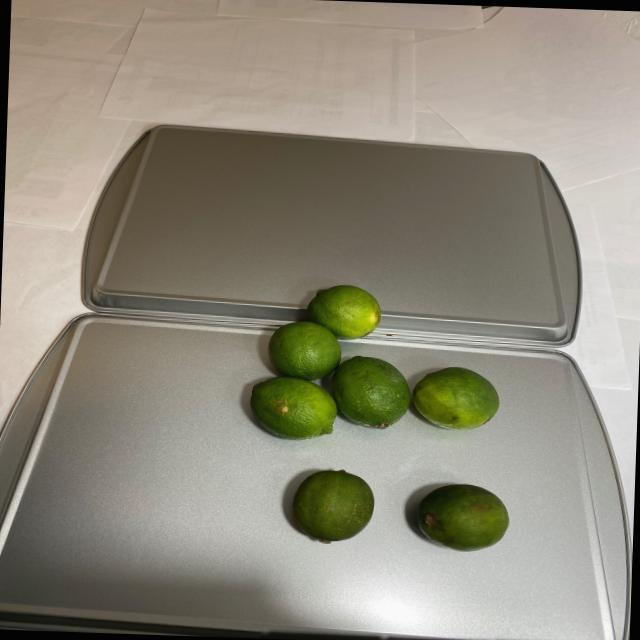lemon: (244, 280, 529, 555)
